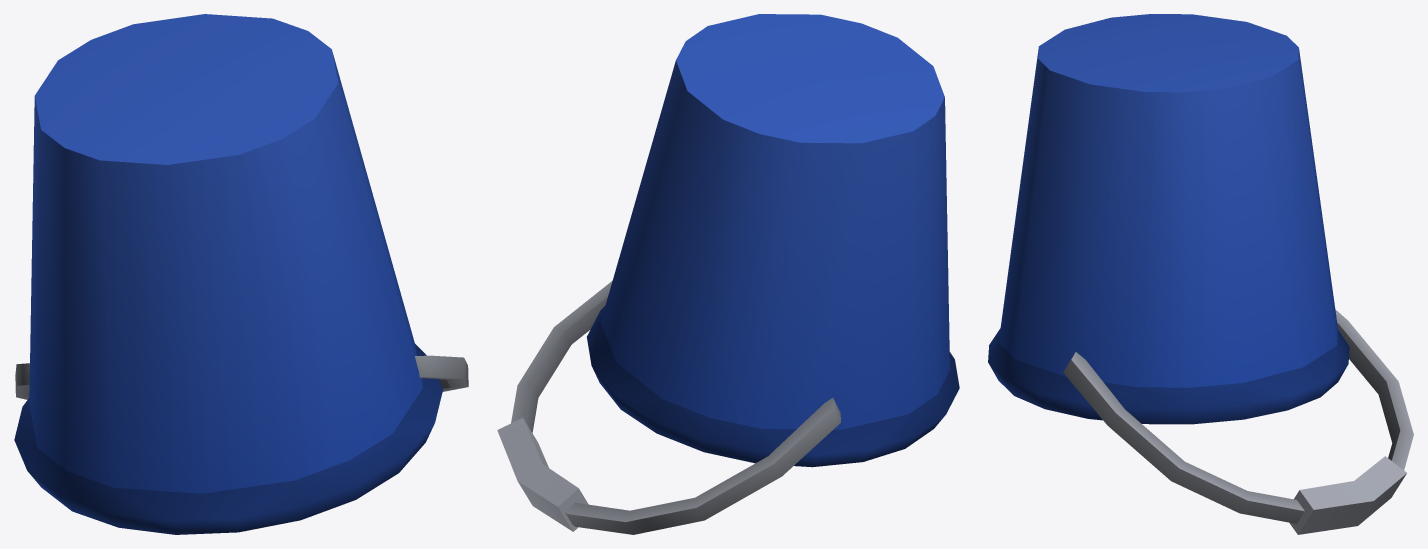
File: hat_pail.glb
3 renders of one model, left to right at view 1: azimuth 30°, elevation 25°; view 2: azimuth 150°, elevation 25°; view 3: azimuth 270°, elevation 25°, orthographic. The views are drawn at different scales.
Parts seen in each view (by area): view 1: hat_pail; view 2: hat_pail; view 3: hat_pail.
Part boxes in pixels (x1,y1,x2,y2): hat_pail: (14,14,468,534); hat_pail: (497,14,959,534); hat_pail: (988,14,1413,534).
Size of the model in its own units: 0.3476 by 0.3681 by 0.3524.
